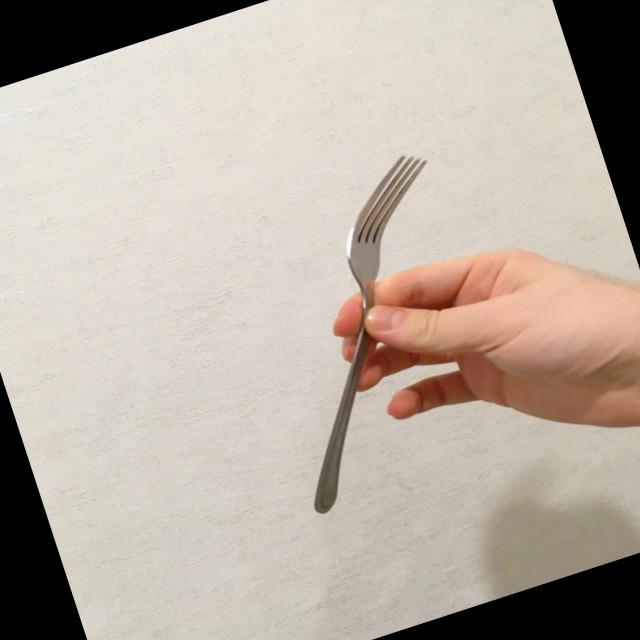fork: (216, 144, 523, 516)
